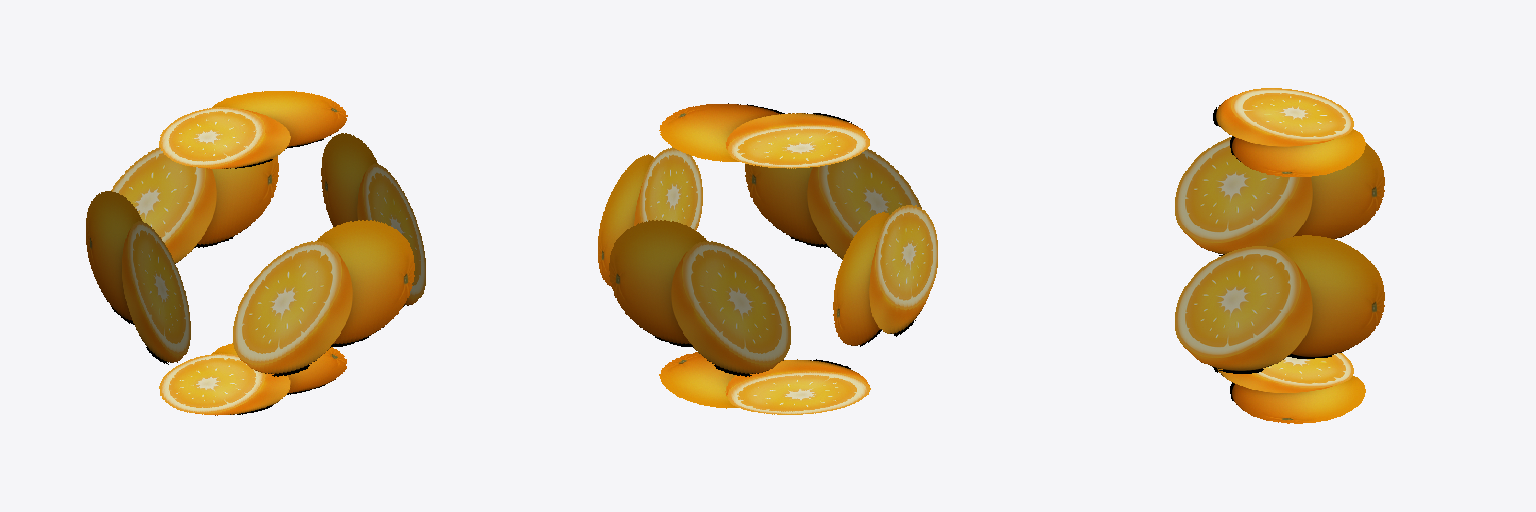
The picture shows the model from 3 angles: view 1: azimuth 30°, elevation 25°; view 2: azimuth 150°, elevation 25°; view 3: azimuth 270°, elevation 25°; orthographic projection.
Parts seen in each view (by area): view 1: Cube; view 2: Cube; view 3: Cube.
Boxes of the visible parts, x1,y1,x2,y2 form: Cube: [86, 91, 425, 415]; Cube: [598, 103, 937, 414]; Cube: [1175, 88, 1384, 423].
Size of the model in its own units: 2 by 2 by 2.
Materials: 1 (1 with a texture image).